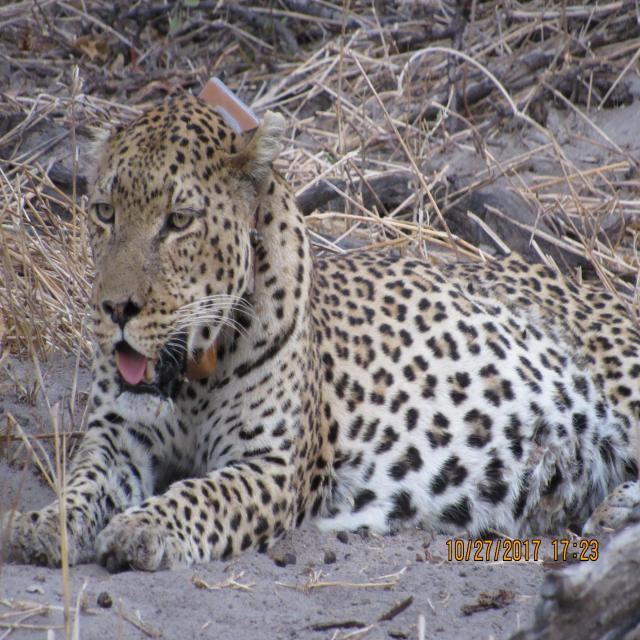Leopard: (0, 78, 640, 582)
